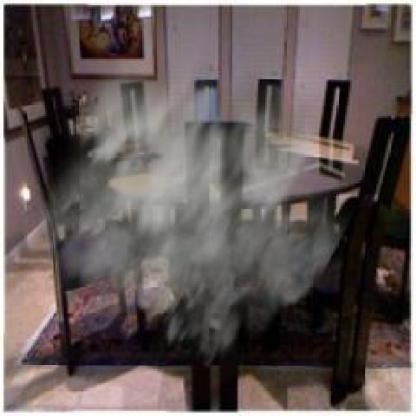Smoke: (21, 11, 362, 370)
